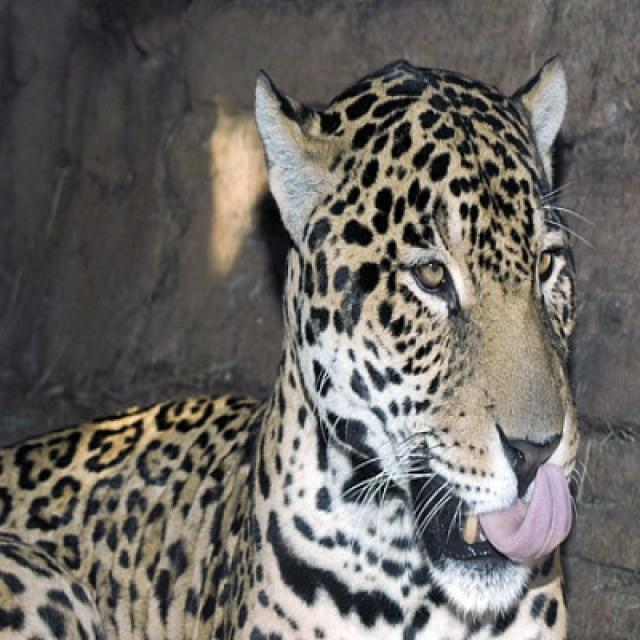Jaguar: (0, 59, 581, 638)
